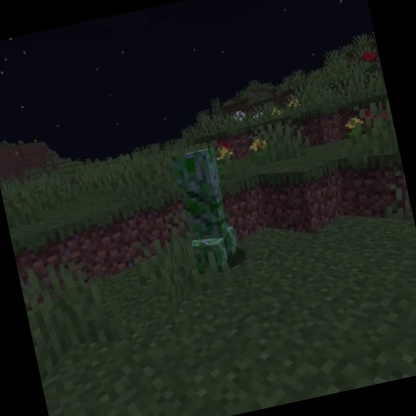creeper: (169, 143, 246, 278)
